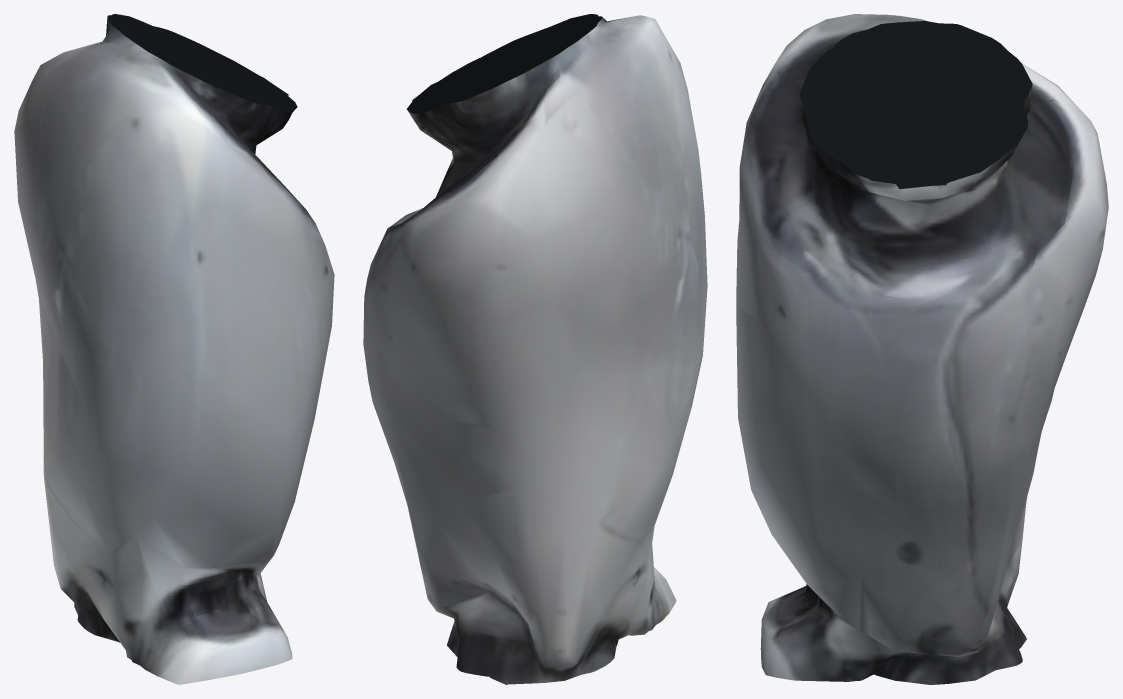
The model's file is right_thigh.obj.
3 renders of one model, left to right at view 1: azimuth 30°, elevation 25°; view 2: azimuth 150°, elevation 25°; view 3: azimuth 270°, elevation 25°, orthographic. The views are drawn at different scales.
Visible parts, largest first — view 1: right_thigh; view 2: right_thigh; view 3: right_thigh.
Boxes of the visible parts, x1,y1,x2,y2 form: right_thigh: (14,14,334,684); right_thigh: (363,14,707,684); right_thigh: (736,14,1108,684).
Bounding box in the file's own units: 0.2207 × 0.4698 × 0.2608.
Materials: 2 (1 with a texture image).
